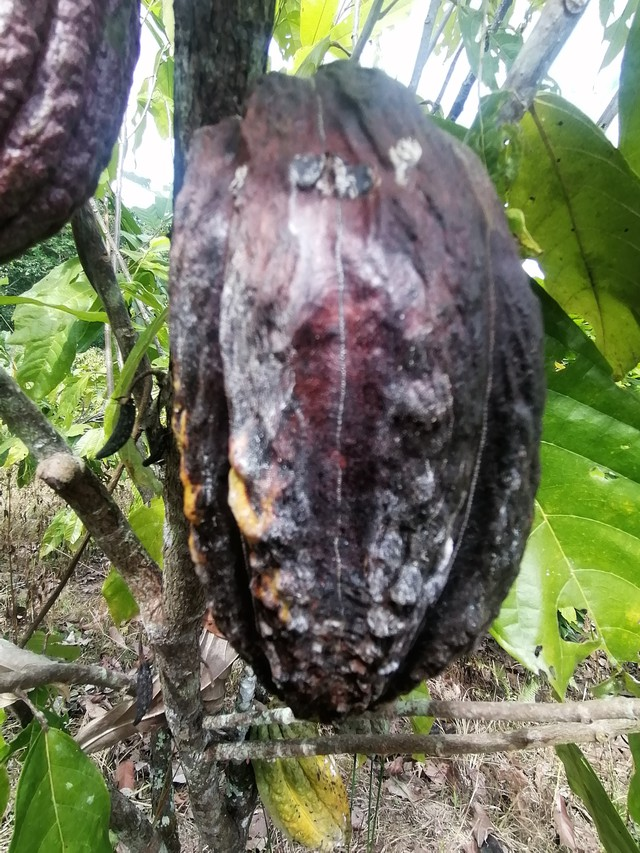moniliophthora roreri: (138, 51, 563, 736)
